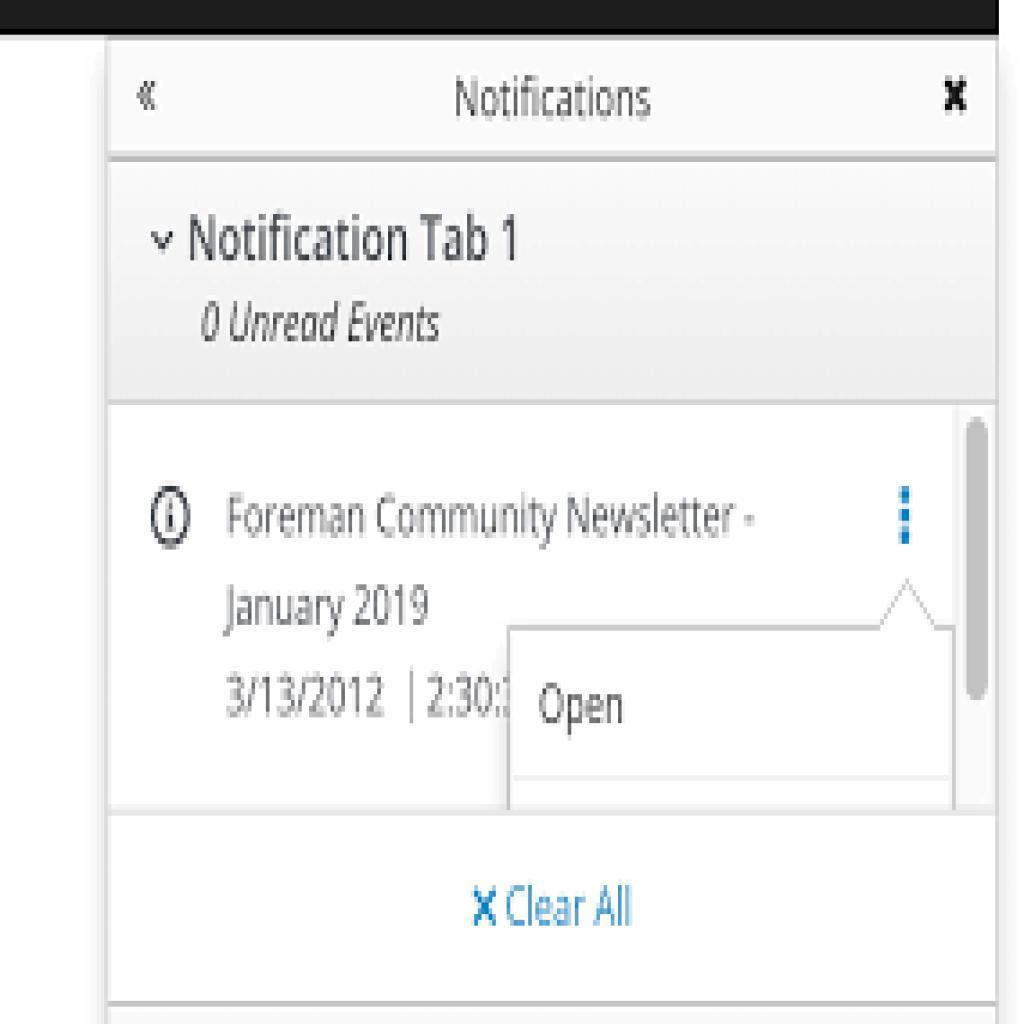dropdown: (107, 161, 1008, 405)
icon: (884, 467, 927, 554), (150, 486, 199, 553)
